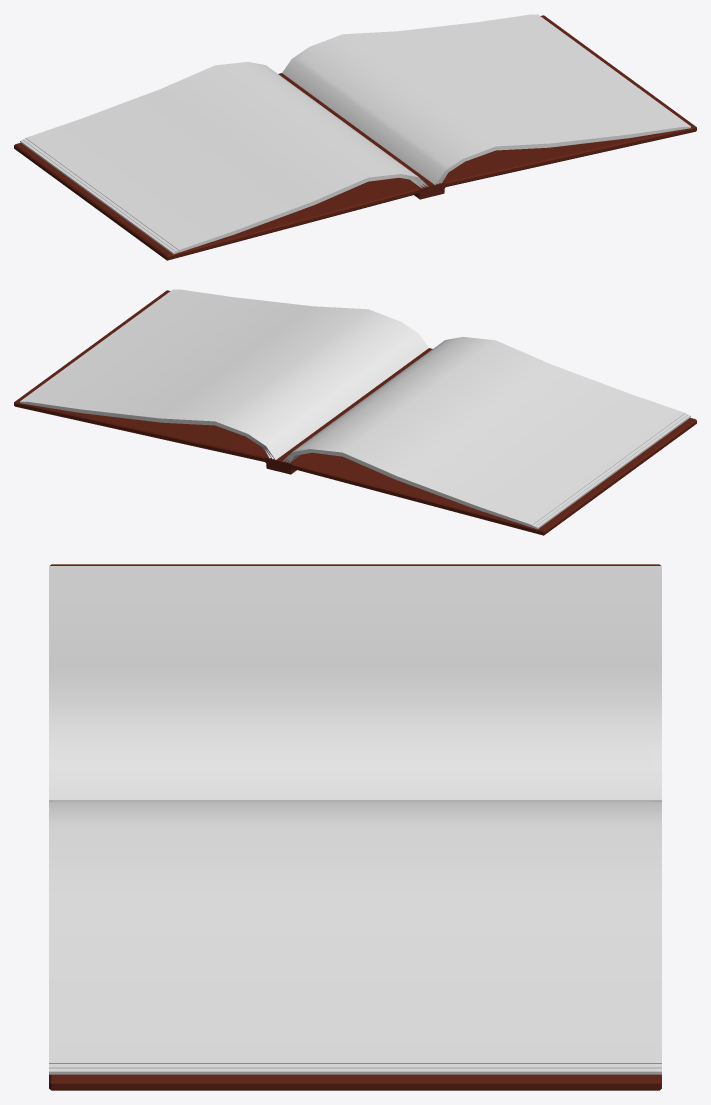
Rendered from Book.fbx.
3 renders of one model, top to bottom at view 1: azimuth 30°, elevation 25°; view 2: azimuth 150°, elevation 25°; view 3: azimuth 270°, elevation 25°, orthographic. The views are drawn at different scales.
Visible parts, largest first — view 1: Plane; view 2: Plane; view 3: Plane.
Part boxes in pixels (x1,y1,x2,y2): Plane: (14,14,696,260); Plane: (14,289,696,535); Plane: (49,564,661,1090).
Bounding box in the file's own units: 2000 × 125 × 1000.
